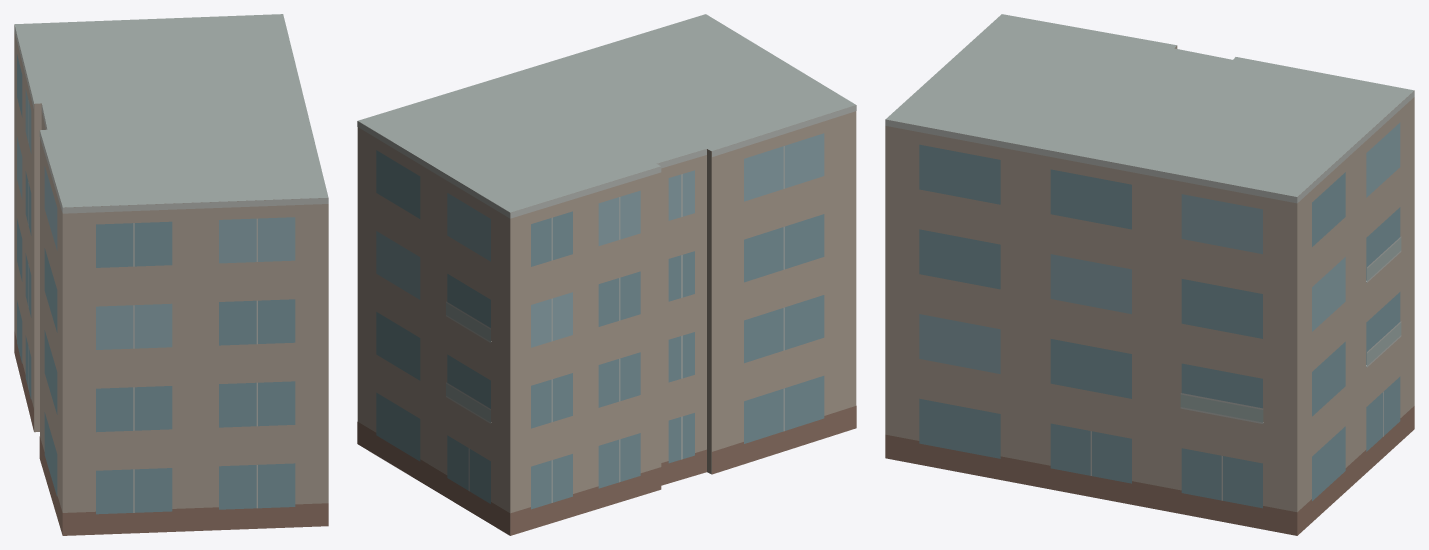
The model's file is survey-upis-33006927.glb.
3 renders of one model, left to right at view 1: azimuth 30°, elevation 25°; view 2: azimuth 150°, elevation 25°; view 3: azimuth 270°, elevation 25°, orthographic. The views are drawn at different scales.
Parts seen in each view (by area): view 1: survey-upis-33006927.tmp; view 2: survey-upis-33006927.tmp; view 3: survey-upis-33006927.tmp.
Part boxes in pixels (bbox=[...]): survey-upis-33006927.tmp: bbox=[14, 14, 328, 535]; survey-upis-33006927.tmp: bbox=[357, 14, 856, 535]; survey-upis-33006927.tmp: bbox=[885, 14, 1414, 535].
Bounding box in the file's own units: 15.07 × 13 × 18.41.
